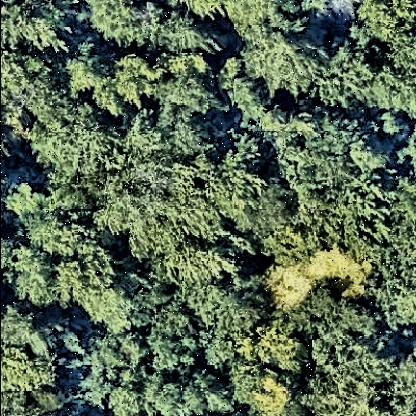tree-top: (13, 222, 123, 323), (181, 141, 271, 242), (266, 236, 376, 317), (288, 109, 360, 223), (79, 260, 168, 350), (31, 99, 119, 189), (249, 24, 332, 103), (321, 27, 395, 115), (377, 177, 416, 331), (79, 327, 154, 407), (202, 272, 260, 372), (140, 293, 201, 387), (93, 51, 165, 126), (316, 297, 386, 370), (302, 355, 384, 416), (235, 312, 304, 382), (2, 60, 63, 139), (228, 1, 311, 51), (115, 161, 179, 223), (89, 1, 170, 49), (169, 240, 239, 294), (237, 180, 303, 236), (166, 54, 226, 115), (14, 1, 78, 58), (4, 342, 66, 398), (153, 376, 234, 416), (377, 341, 416, 416), (161, 114, 219, 164), (160, 14, 223, 60), (122, 105, 166, 163), (248, 365, 298, 415), (353, 129, 401, 177), (64, 50, 100, 104)
